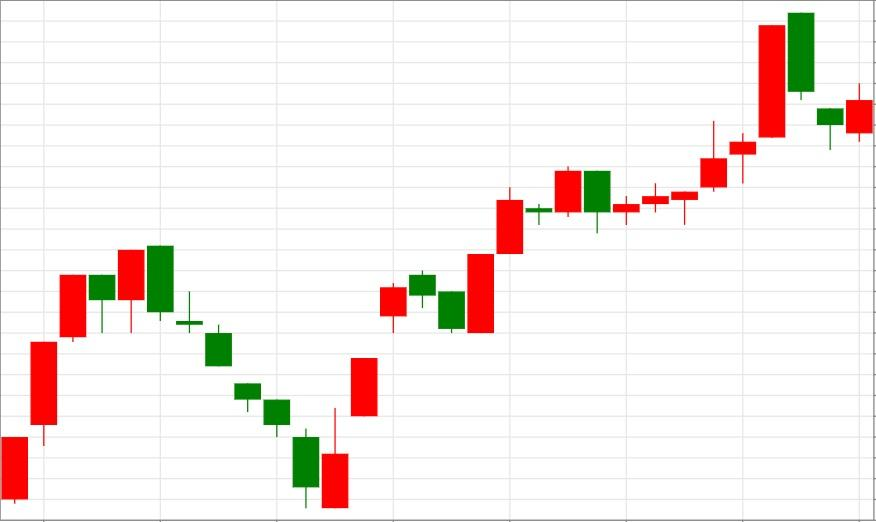three_white_soldiers_rise: (146, 245, 408, 508)
